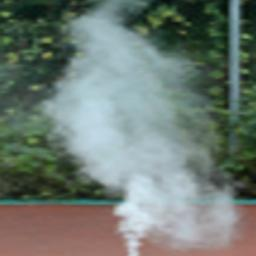smoke: (42, 0, 238, 255)
